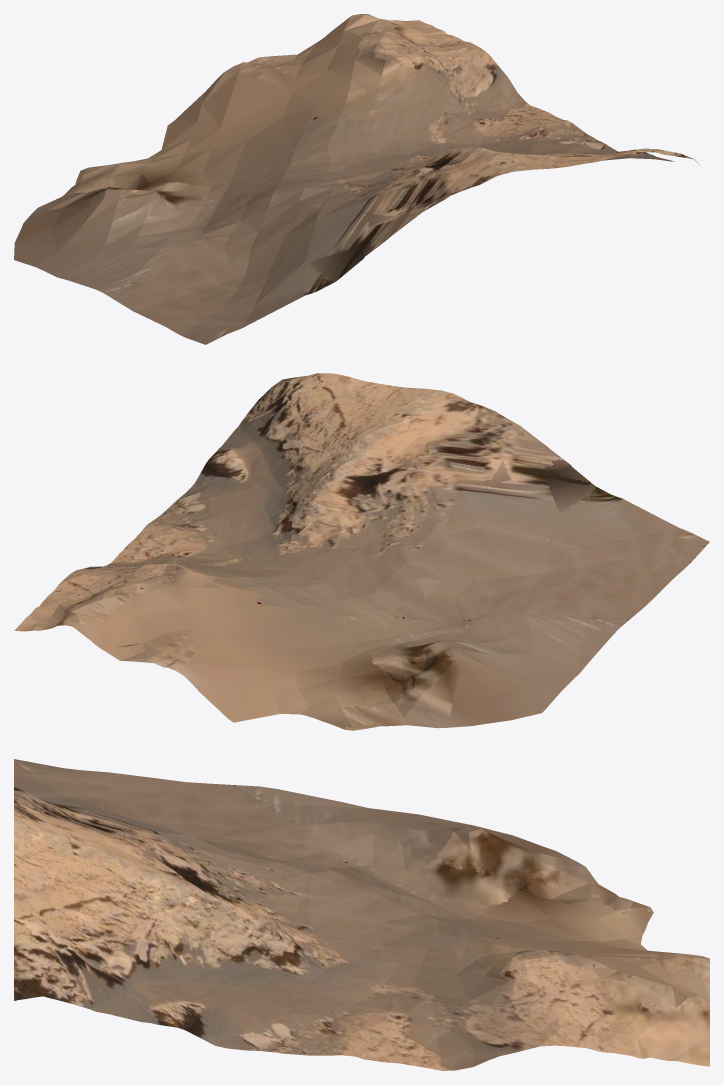
The picture shows the model from 3 angles, top to bottom: view 1: azimuth 30°, elevation 25°; view 2: azimuth 150°, elevation 25°; view 3: azimuth 270°, elevation 25°; orthographic projection. The views are drawn at different scales.
Bounding box in the file's own units: 1.04 × 0.3038 × 1.04.
Materials: 2 (2 with a texture image).
